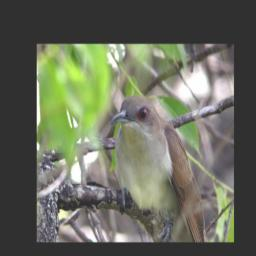Cuckoo: (110, 95, 205, 242)
